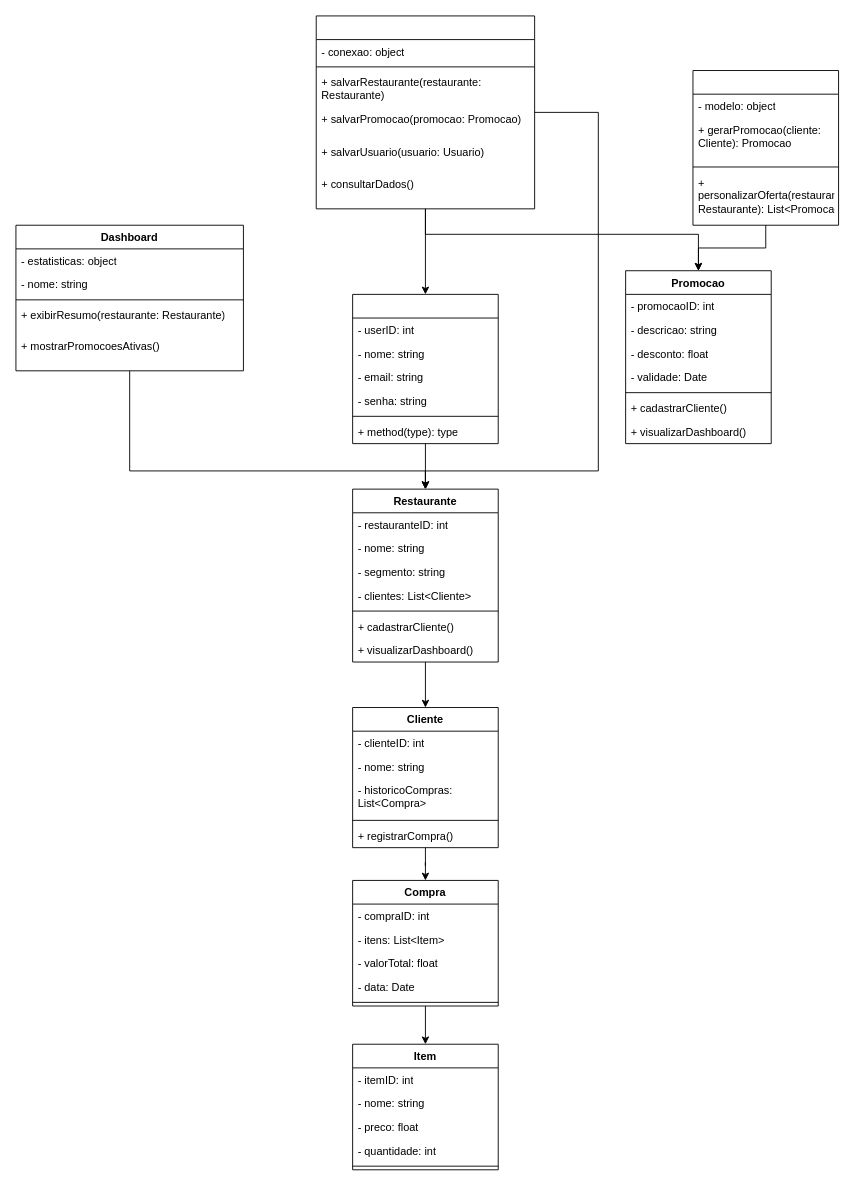
Some shapes in this 865 by 1186 pixel diagram are drawn without their labels. Here are the shapes that lost their labels. From the top down, the box of each, then its label:
(315, 15, 535, 209): BancoDeDados
(692, 70, 839, 225): RecomendacaoIA
(352, 293, 498, 444): Usuário
